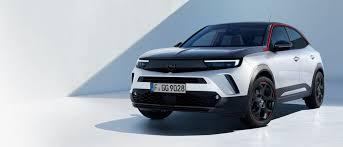opel: (163, 57, 181, 74)
